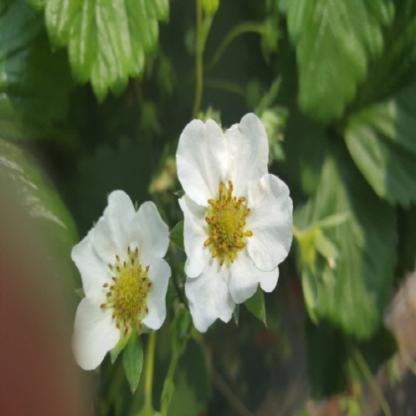Strawberry_Blossom_Blight: (97, 244, 155, 338)
